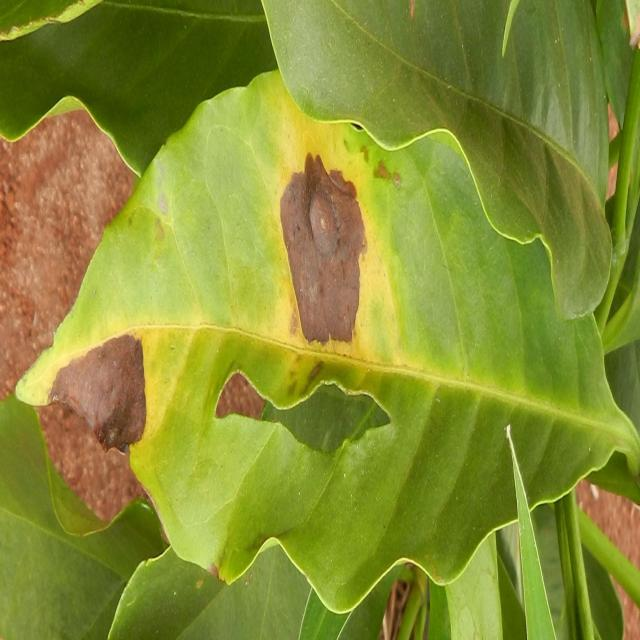Enfermedad-Mancha-de-hierro: (14, 71, 640, 615)
